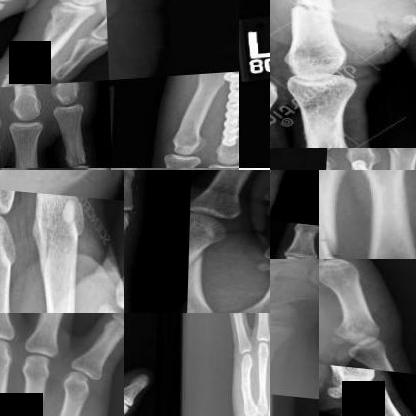fracture: (202, 75, 238, 157), (319, 170, 351, 258), (191, 237, 229, 297), (36, 224, 69, 292), (270, 296, 317, 336), (285, 0, 351, 24), (319, 259, 342, 290), (238, 368, 256, 400)
